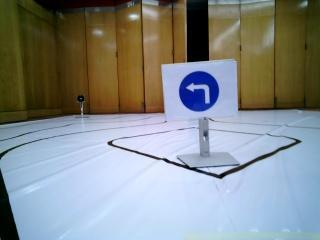left: (160, 58, 240, 113)
